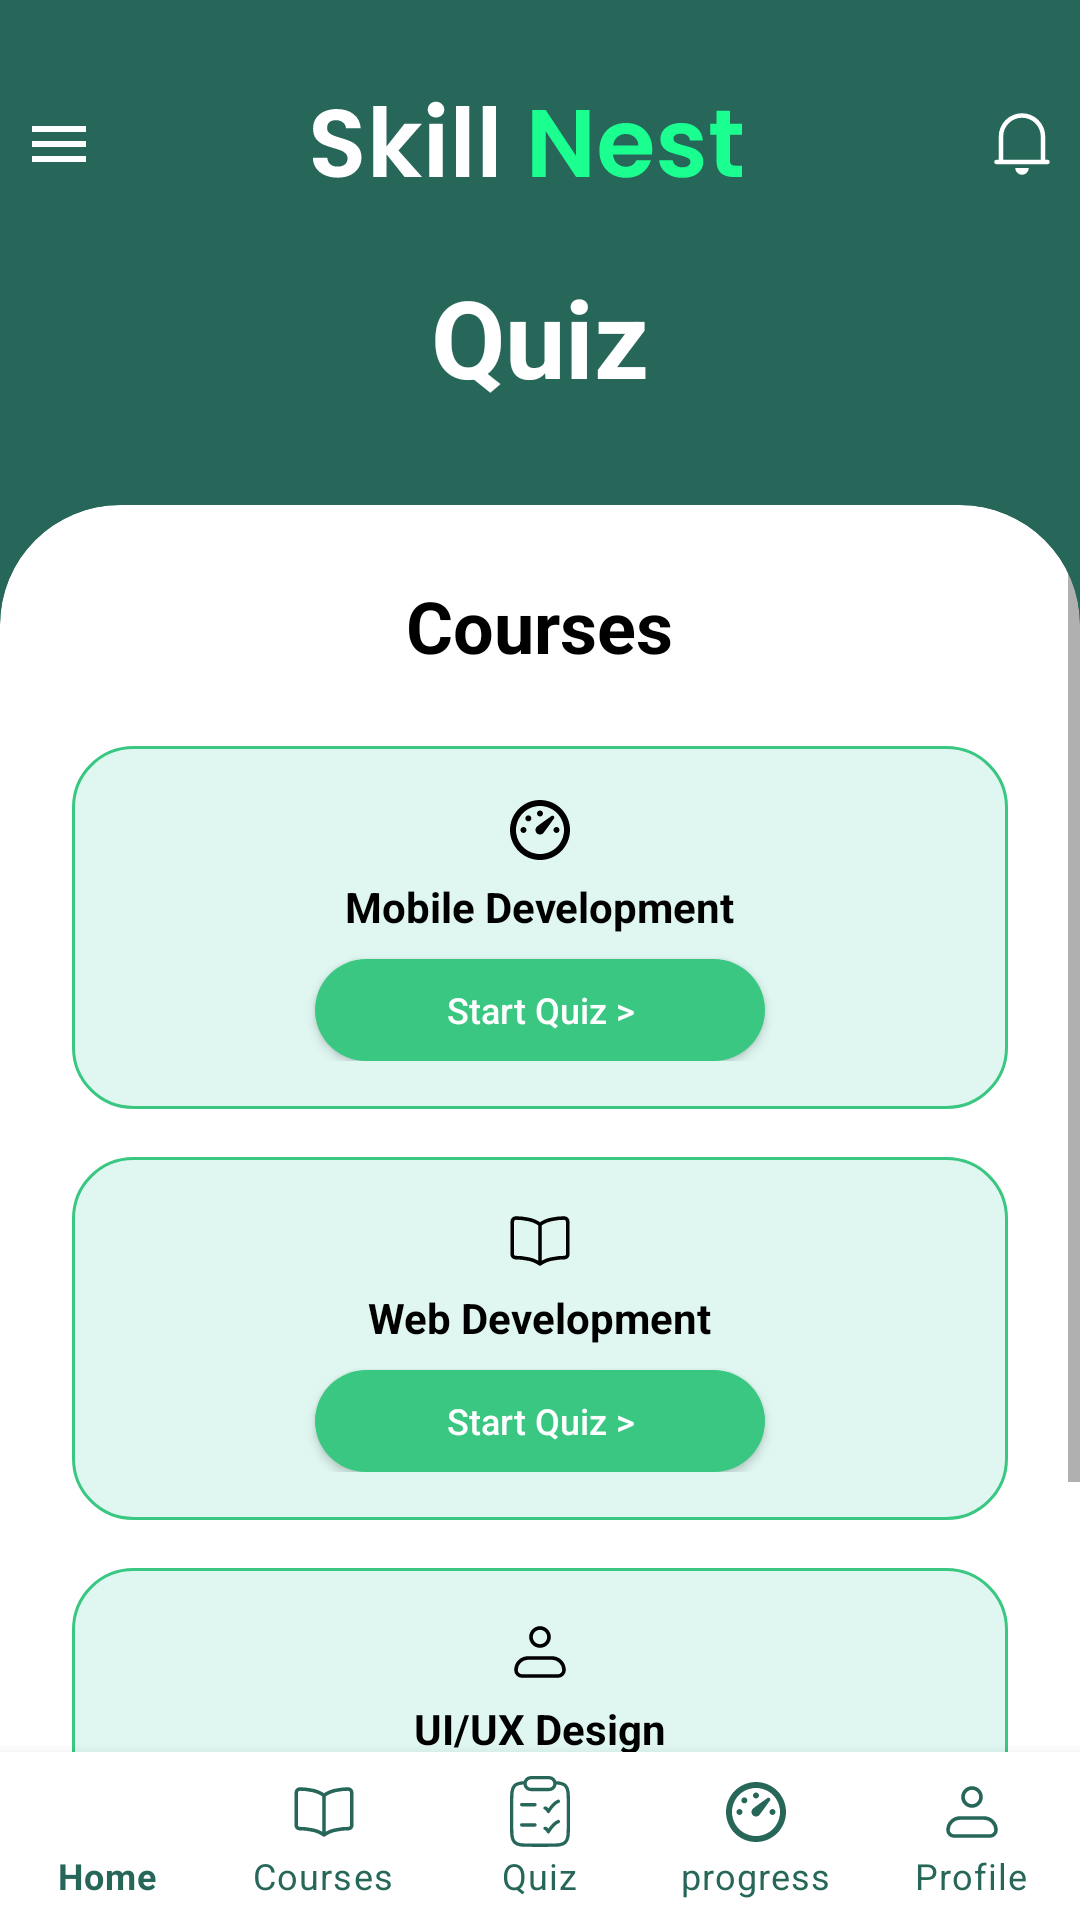

Locate icon controls on the screen. Image size 1080 × 1920, boxes as box(x1, y1, x2, y2).
book: box(510, 1216, 570, 1266)
